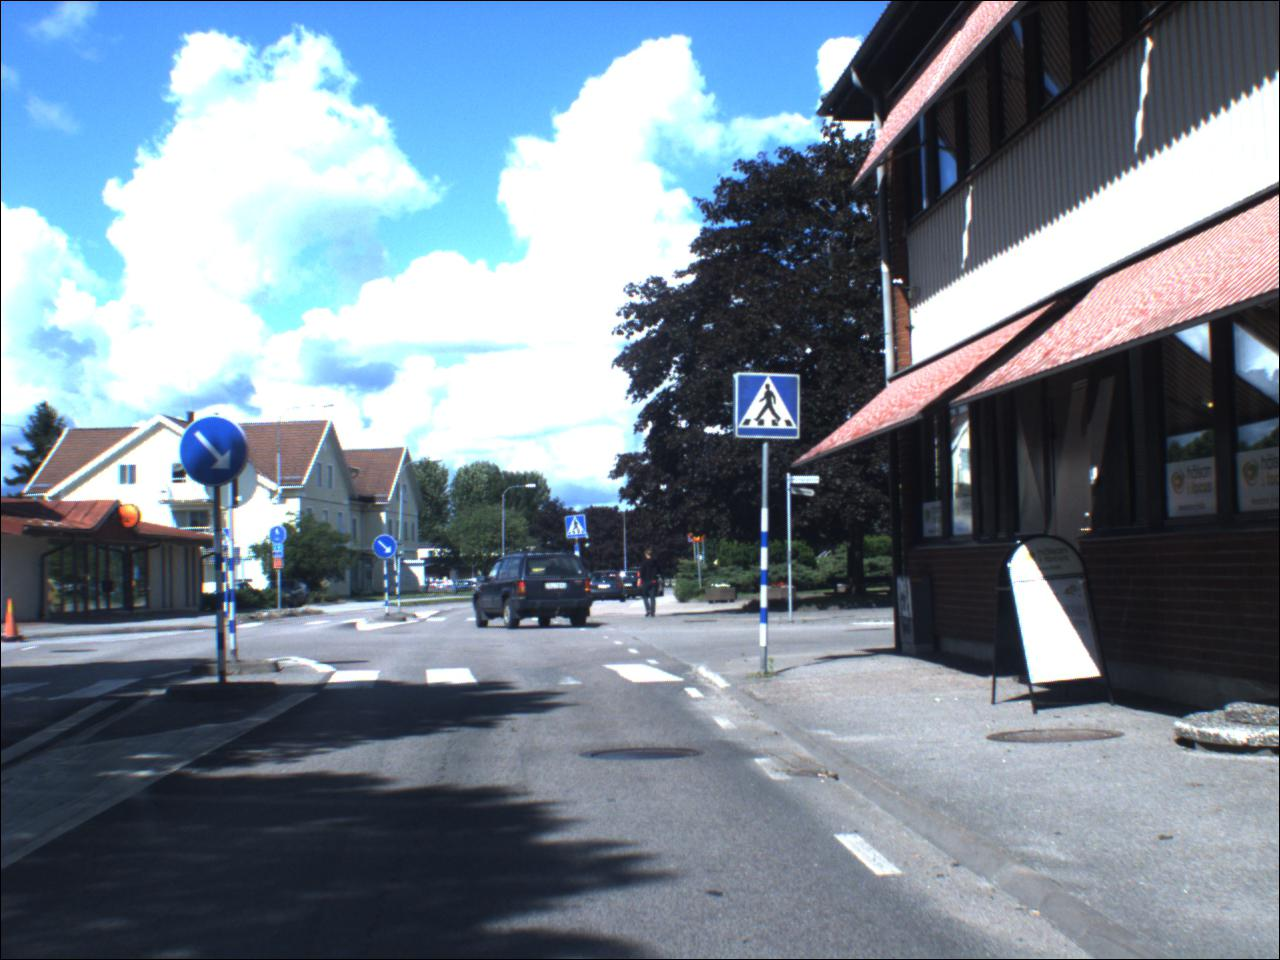PASS_RIGHT_SIDE: (182, 418, 250, 489), (375, 535, 403, 565)
PEDESTRIAN_CROSSING: (738, 373, 803, 441), (568, 517, 590, 541)
